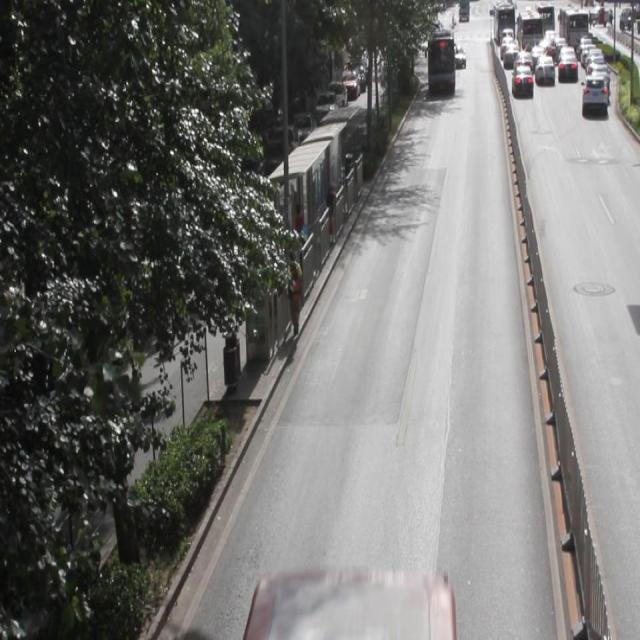van: (238, 566, 454, 640)
